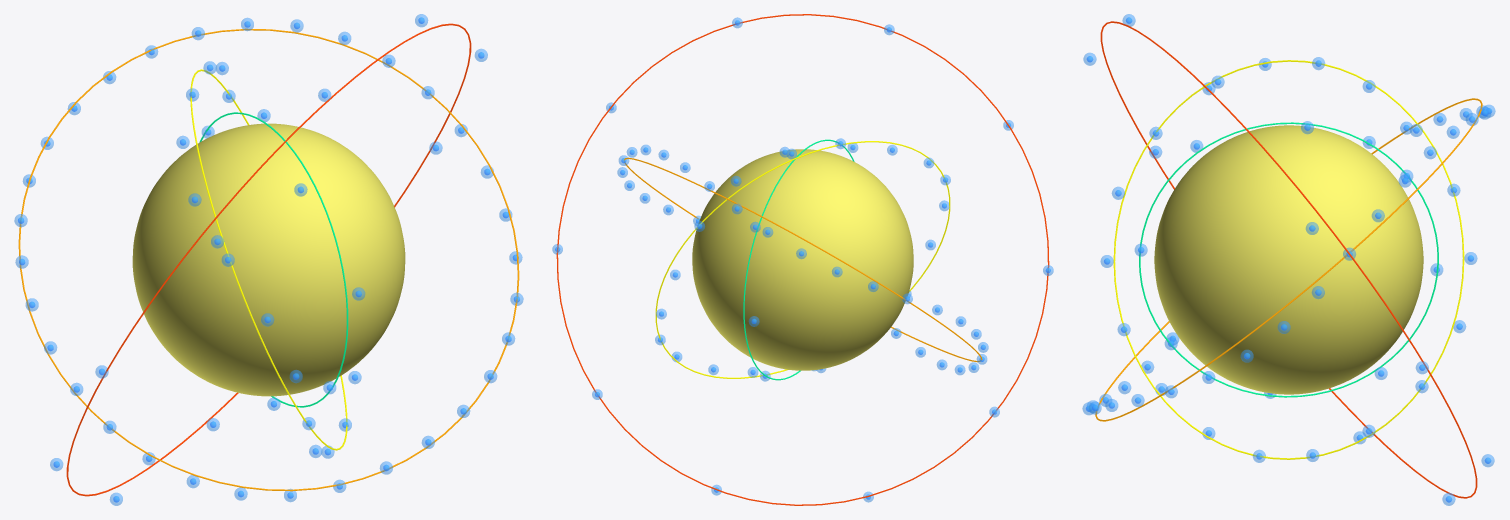
The picture shows the model from 3 angles, left to right: view 1: azimuth 30°, elevation 25°; view 2: azimuth 150°, elevation 25°; view 3: azimuth 270°, elevation 25°; orthographic projection. The views are drawn at different scales.
Parts seen in each view (by area): view 1: Yb, object 61, object 126, object 24, object 7; view 2: Yb, object 126, object 24, object 61, object 7; view 3: Yb, object 24, object 126, object 7, object 61.
Boxes of the visible parts, x1,y1,x2,y2 form: Yb: [132, 123, 405, 396]; object 61: [18, 28, 519, 491]; object 126: [66, 23, 471, 496]; object 24: [190, 69, 347, 450]; object 7: [199, 112, 348, 407]; Yb: [692, 149, 913, 370]; object 126: [556, 14, 1049, 505]; object 24: [655, 141, 950, 378]; object 61: [624, 157, 982, 362]; object 7: [743, 139, 854, 380]; Yb: [1154, 125, 1423, 394]; object 24: [1113, 60, 1464, 459]; object 126: [1100, 21, 1477, 498]; object 7: [1139, 122, 1438, 397]; object 61: [1095, 98, 1482, 421].
Bounding box in the file's own units: 6.6 × 6.38 × 4.98.
